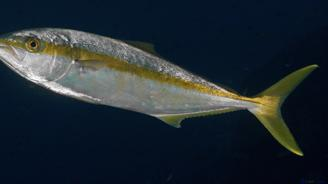Carangidae -Jacks-: (0, 20, 324, 160)
